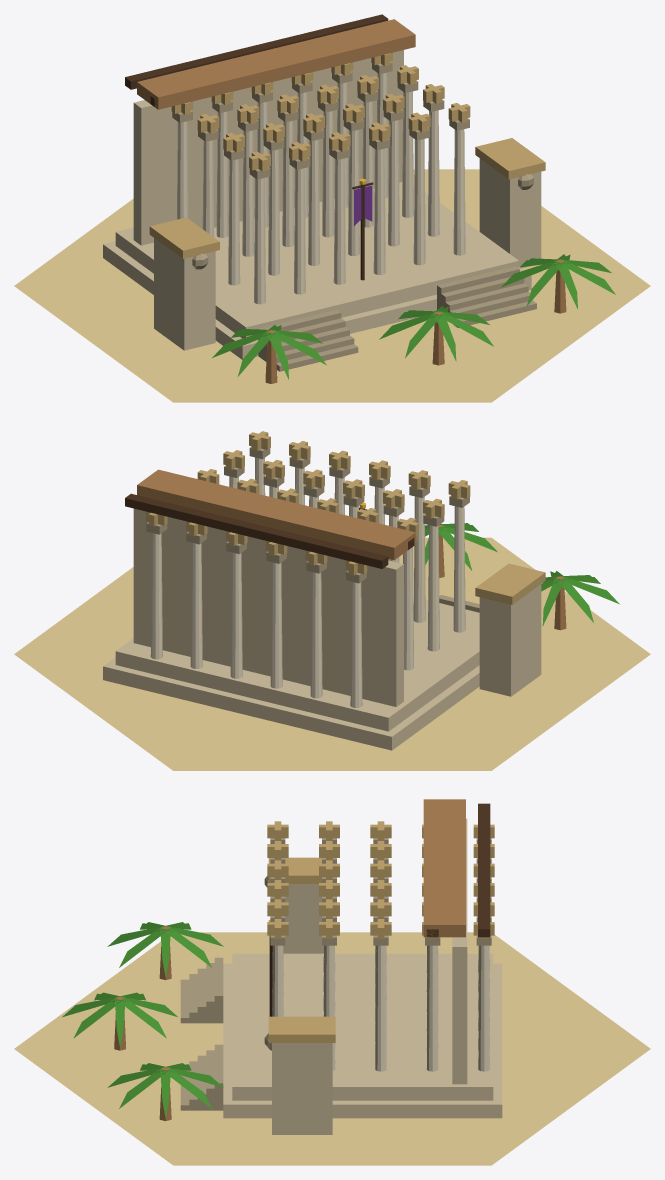
Rendered from wonder_apadana.fbx.
3 views of the same model, one above another, from view 1: azimuth 30°, elevation 25°; view 2: azimuth 150°, elevation 25°; view 3: azimuth 270°, elevation 25° (orthographic).
Visible parts, largest first — view 1: wonder_apadana; view 2: wonder_apadana; view 3: wonder_apadana.
Boxes of the visible parts, bbox=[...] form: wonder_apadana: bbox=[14, 14, 650, 402]; wonder_apadana: bbox=[14, 431, 650, 770]; wonder_apadana: bbox=[14, 799, 650, 1165].
Size of the model in its own units: 182 by 67.9 by 210.
